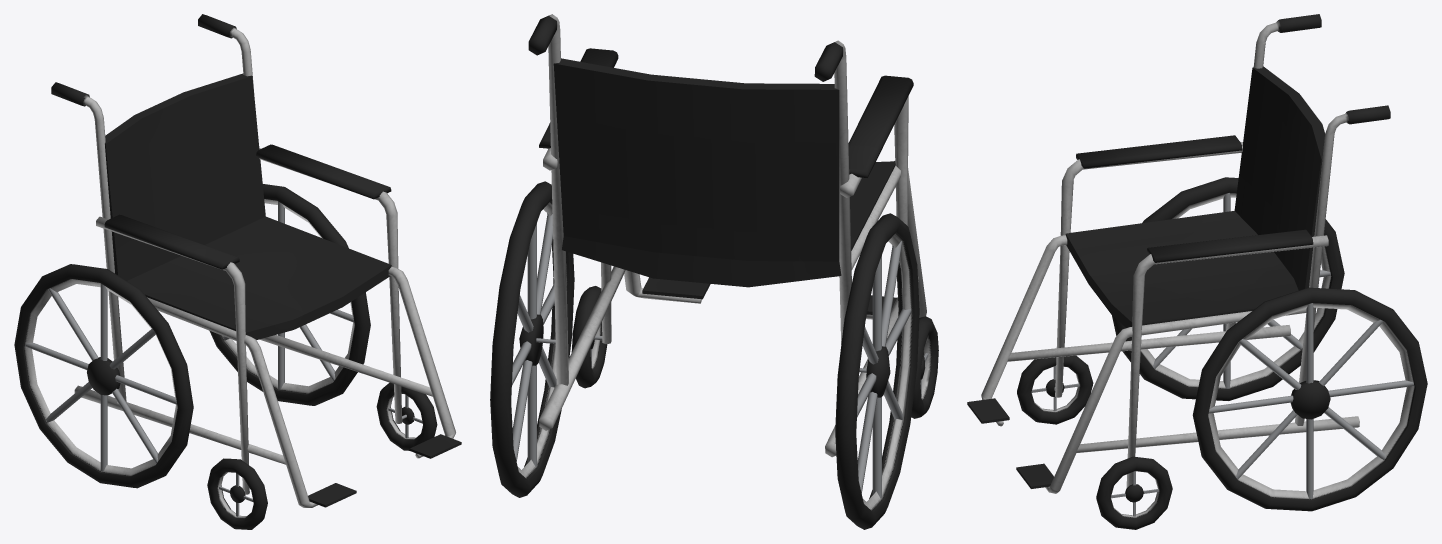
Rendered from Wheelchair.fbx.
3 renders of one model, left to right at view 1: azimuth 30°, elevation 25°; view 2: azimuth 150°, elevation 25°; view 3: azimuth 270°, elevation 25°, orthographic. The views are drawn at different scales.
Parts seen in each view (by area): view 1: Wheelchair; view 2: Wheelchair; view 3: Wheelchair.
Boxes of the visible parts, left/top/right/bottom form: Wheelchair: left=14, top=14, right=461, bottom=529; Wheelchair: left=490, top=14, right=938, bottom=529; Wheelchair: left=967, top=14, right=1427, bottom=529.
Size of the model in its own units: 0.8867 by 1.02 by 1.1.
